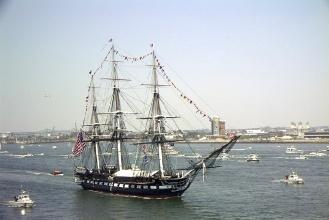fanchuan: (72, 34, 234, 192)
otherboat: (9, 190, 35, 209), (280, 169, 309, 185)
